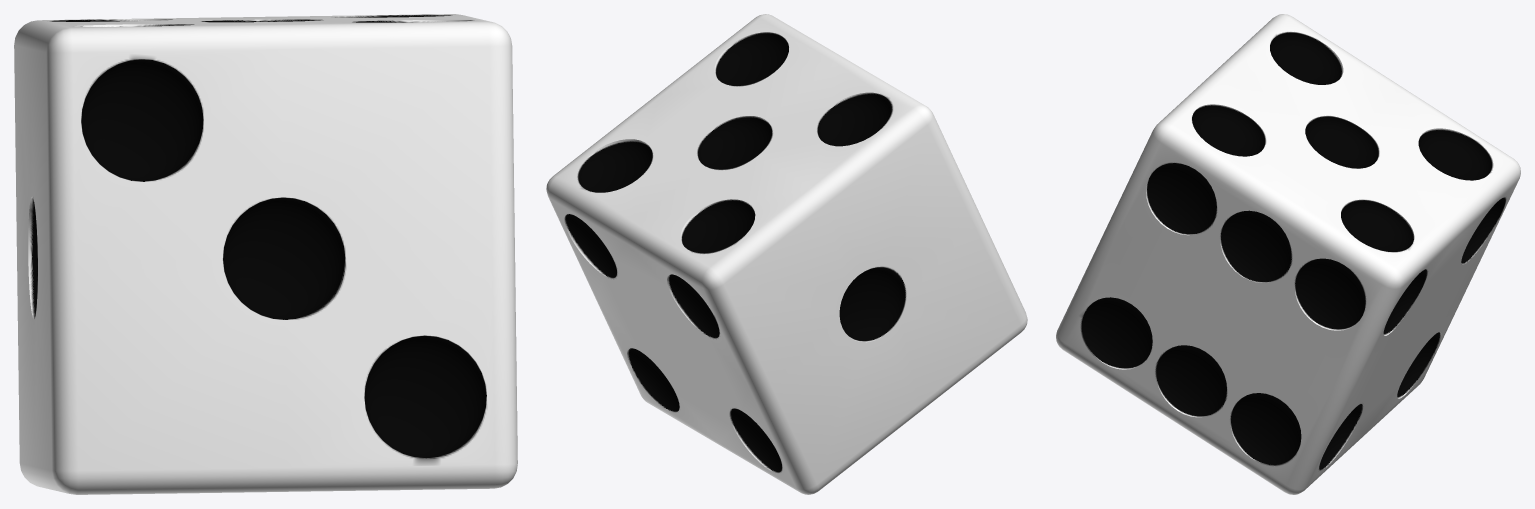
3 views of the same model, side by side, from view 1: azimuth 30°, elevation 25°; view 2: azimuth 150°, elevation 25°; view 3: azimuth 270°, elevation 25° (orthographic). The views are drawn at different scales.
Parts seen in each view (by area): view 1: node_id5; view 2: node_id5; view 3: node_id5.
Part boxes in pixels (x1=…): node_id5: x1=14, y1=14, x2=517, y2=494; node_id5: x1=546, y1=14, x2=1027, y2=494; node_id5: x1=1056, y1=14, x2=1520, y2=494.
Size of the model in its own units: 0.7318 by 0.6666 by 0.7946.
Materials: 1 (1 with a texture image).
